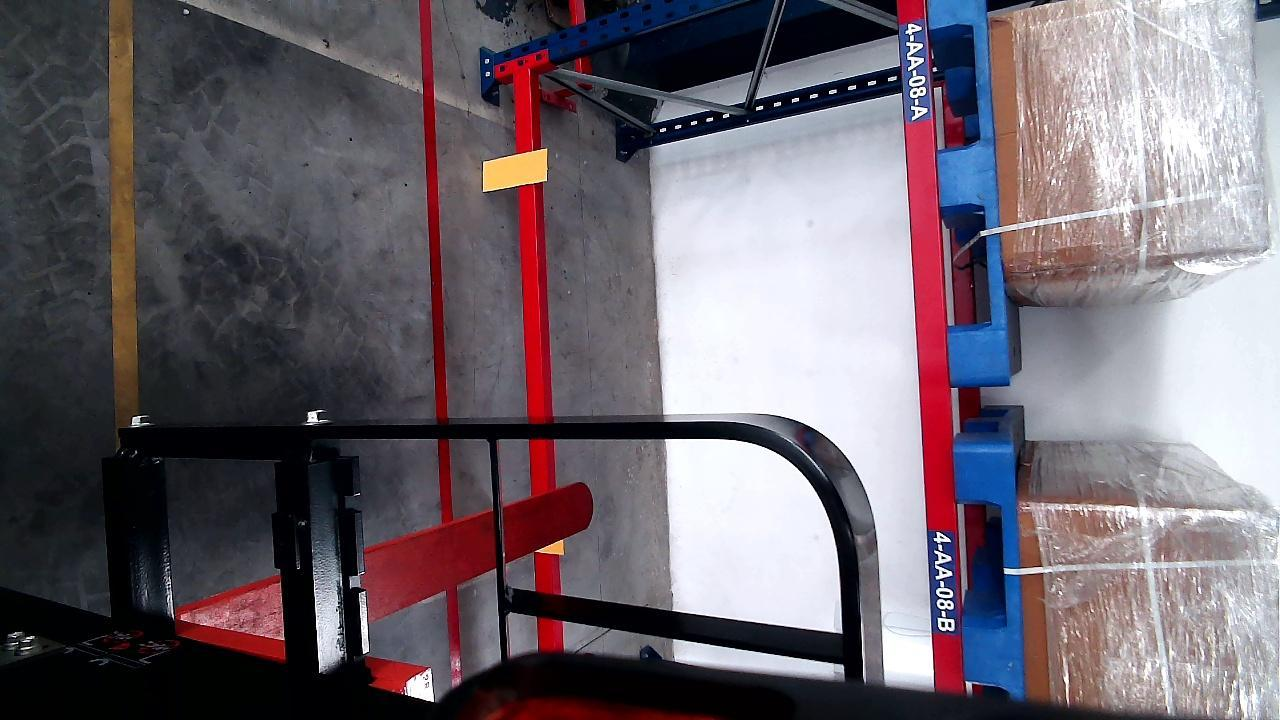red_line: (417, 1, 465, 680)
yellow_line: (109, 0, 139, 426)
